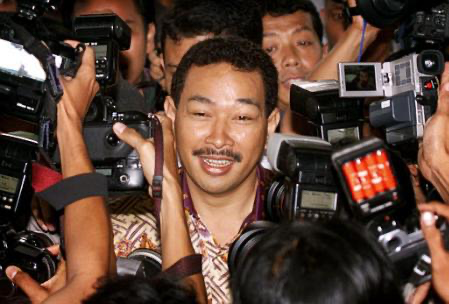Face: (181, 68, 264, 193), (257, 19, 324, 93)
